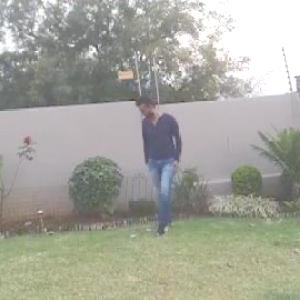follow: (140, 90, 187, 236)
